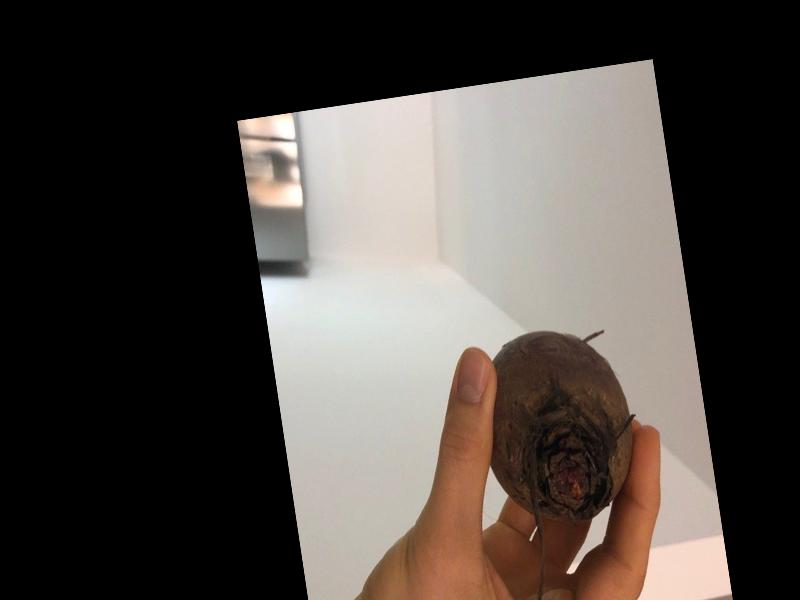Beet: (469, 317, 666, 600)
